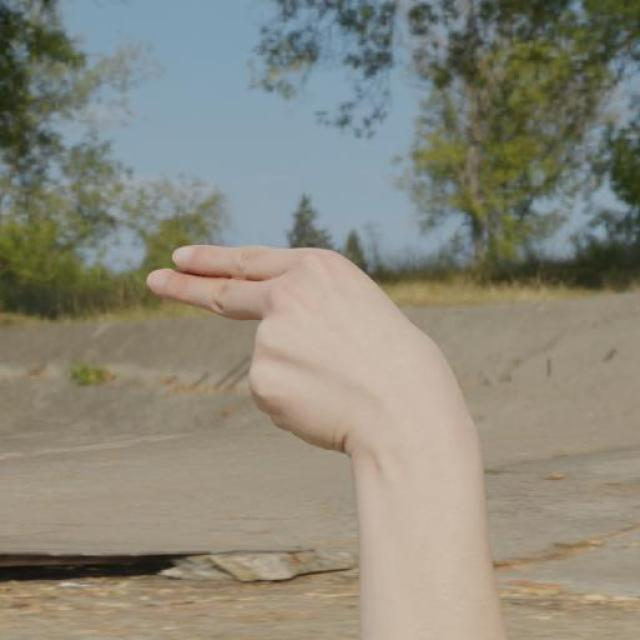H: (127, 230, 463, 462)
